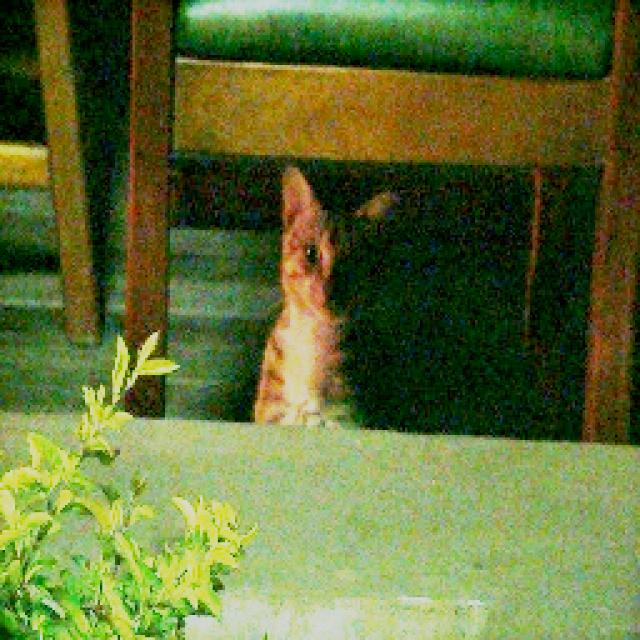cat: (222, 151, 443, 449)
